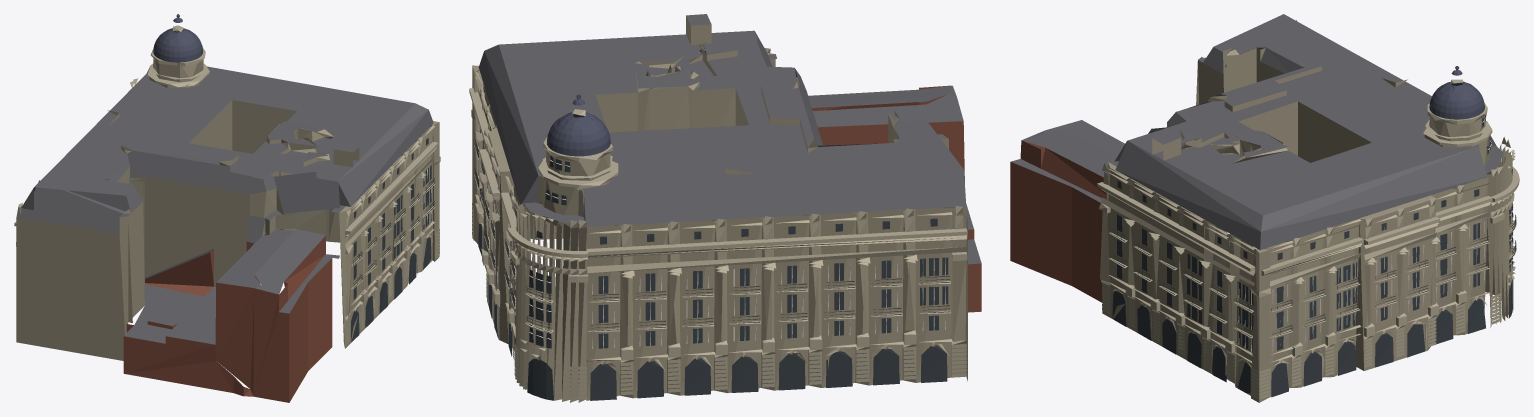
Rendered from hirschgebouw.lod1.glb.
The picture shows the model from 3 angles, left to right: view 1: azimuth 30°, elevation 25°; view 2: azimuth 150°, elevation 25°; view 3: azimuth 270°, elevation 25°; orthographic projection. The views are drawn at different scales.
Parts seen in each view (by area): view 1: hirschgebouw; view 2: hirschgebouw; view 3: hirschgebouw.
Boxes of the visible parts, bbox=[...] form: hirschgebouw: bbox=[14, 14, 440, 402]; hirschgebouw: bbox=[469, 14, 981, 402]; hirschgebouw: bbox=[1010, 14, 1519, 402].
Bounding box in the file's own units: 73.98 × 38.13 × 72.23.
